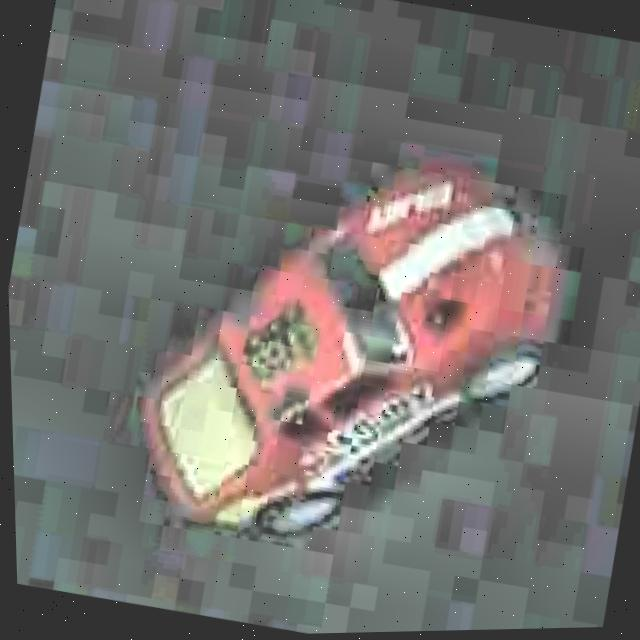car: (110, 114, 593, 587)
